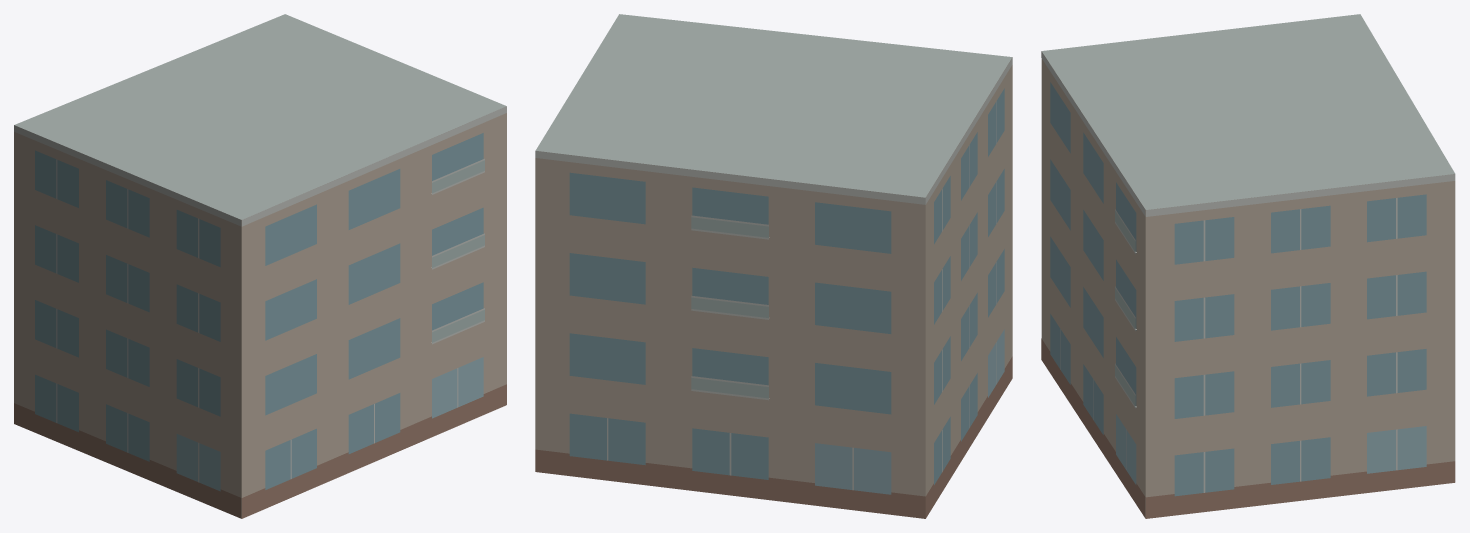
File: survey-upis-32592767.glb
The picture shows the model from 3 angles, left to right: view 1: azimuth 30°, elevation 25°; view 2: azimuth 150°, elevation 25°; view 3: azimuth 270°, elevation 25°; orthographic projection. The views are drawn at different scales.
Parts seen in each view (by area): view 1: survey-upis-32592767.tmp; view 2: survey-upis-32592767.tmp; view 3: survey-upis-32592767.tmp.
Part boxes in pixels (<box>): survey-upis-32592767.tmp: <box>14,14,506,518</box>; survey-upis-32592767.tmp: <box>535,14,1012,518</box>; survey-upis-32592767.tmp: <box>1041,14,1455,518</box>.
Size of the model in its own units: 14.86 by 10.9 by 13.25.
